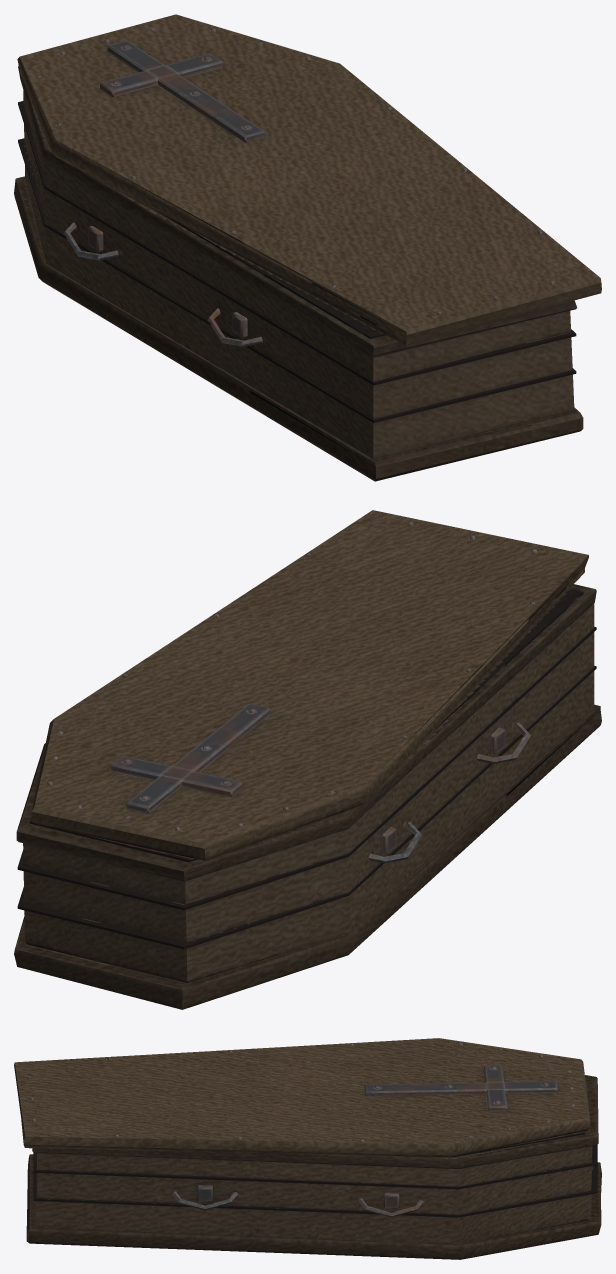
The model's file is coffin.glb.
3 views of the same model, one above another, from view 1: azimuth 30°, elevation 25°; view 2: azimuth 150°, elevation 25°; view 3: azimuth 270°, elevation 25° (orthographic). The views are drawn at different scales.
Parts seen in each view (by area): view 1: coffin; view 2: coffin; view 3: coffin.
Part boxes in pixels (bbox=[...]): coffin: bbox=[14, 14, 601, 481]; coffin: bbox=[14, 510, 601, 1009]; coffin: bbox=[14, 1038, 601, 1259].
Size of the model in its own units: 0.8846 by 0.4287 by 1.89.
1 material, 1 textured.
